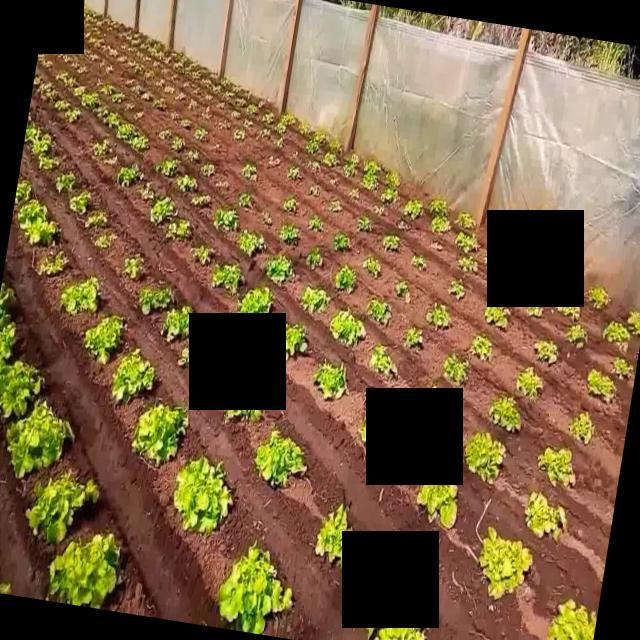Lettuce: (218, 542, 293, 634), (48, 532, 123, 610), (6, 401, 74, 479), (27, 474, 100, 542), (174, 456, 233, 533), (479, 525, 534, 600), (131, 403, 187, 466), (255, 431, 306, 487), (111, 348, 156, 406), (0, 361, 44, 417), (465, 432, 506, 486), (82, 314, 126, 364), (316, 505, 352, 562), (524, 490, 564, 540), (551, 598, 597, 640), (416, 486, 458, 530), (536, 446, 576, 488), (59, 276, 101, 315), (315, 362, 350, 400), (331, 310, 367, 346), (162, 305, 195, 344), (20, 218, 61, 246), (491, 395, 522, 431), (33, 248, 70, 278), (587, 369, 616, 405), (236, 287, 273, 315), (370, 344, 399, 379), (213, 264, 246, 294), (569, 411, 596, 447), (366, 625, 427, 640), (139, 288, 174, 314), (444, 352, 470, 386), (148, 197, 178, 226), (517, 367, 544, 399), (238, 230, 268, 258), (266, 255, 294, 285), (298, 286, 330, 312), (285, 323, 307, 360), (0, 308, 16, 357), (426, 302, 452, 328), (213, 208, 240, 233), (334, 264, 358, 292), (18, 200, 48, 222), (367, 300, 392, 326), (469, 336, 493, 362), (533, 340, 559, 364), (604, 320, 631, 343), (484, 307, 511, 330), (164, 220, 194, 240), (190, 245, 218, 266), (120, 256, 146, 278), (588, 286, 612, 309), (116, 166, 140, 188), (70, 190, 92, 214), (14, 178, 34, 204), (455, 232, 479, 253), (613, 356, 635, 378), (279, 223, 301, 244), (32, 132, 52, 154), (55, 172, 77, 192), (426, 198, 449, 217), (447, 280, 467, 301), (455, 211, 477, 230), (363, 257, 382, 279), (116, 122, 136, 142), (382, 169, 402, 189), (333, 231, 352, 252), (158, 158, 180, 176), (430, 215, 452, 233), (405, 327, 424, 347), (306, 249, 324, 270), (85, 212, 108, 228), (403, 200, 422, 219), (568, 324, 587, 343), (458, 256, 478, 274), (177, 175, 198, 192), (39, 154, 61, 170), (627, 310, 640, 337), (93, 234, 118, 248), (557, 307, 582, 321), (130, 135, 149, 153), (363, 158, 382, 176), (80, 93, 100, 109), (139, 182, 156, 200), (308, 214, 324, 233), (24, 124, 40, 143), (361, 174, 378, 191), (380, 187, 397, 204), (382, 235, 400, 251), (190, 193, 212, 206), (411, 255, 428, 271), (282, 197, 298, 214), (103, 112, 121, 127), (322, 152, 340, 167), (239, 192, 254, 209), (242, 165, 258, 180), (93, 140, 110, 154), (171, 137, 186, 152), (357, 216, 372, 231), (66, 109, 82, 123), (526, 306, 544, 318), (328, 140, 342, 155), (346, 151, 360, 166), (343, 163, 357, 178), (327, 199, 342, 213), (312, 129, 325, 145), (158, 128, 172, 142), (201, 163, 215, 177), (288, 166, 302, 180), (261, 211, 275, 225), (201, 107, 214, 122), (306, 139, 319, 154), (54, 99, 70, 111), (396, 281, 408, 297), (194, 128, 208, 141), (233, 128, 246, 142), (186, 150, 201, 162), (281, 114, 296, 126), (308, 159, 321, 172), (38, 82, 52, 94), (72, 85, 86, 97), (112, 92, 126, 104), (263, 111, 275, 125), (218, 118, 232, 130), (222, 90, 236, 102), (207, 72, 221, 84), (298, 120, 310, 134), (267, 156, 281, 168), (39, 58, 54, 69), (100, 85, 116, 95), (96, 105, 108, 118), (275, 122, 287, 135), (258, 98, 271, 110), (349, 187, 361, 200), (66, 77, 80, 88), (237, 89, 252, 99), (57, 71, 69, 83), (248, 104, 260, 116), (188, 98, 200, 110), (234, 96, 246, 108), (221, 78, 233, 90), (189, 71, 201, 83), (33, 73, 44, 86), (152, 99, 166, 109), (260, 128, 272, 139), (234, 128, 245, 140), (200, 78, 211, 90), (173, 62, 185, 73), (309, 185, 320, 197), (180, 118, 193, 128), (186, 60, 198, 70), (138, 43, 150, 53), (125, 78, 136, 88), (211, 85, 222, 95), (198, 67, 209, 77), (162, 56, 173, 66), (130, 38, 142, 47), (131, 86, 144, 94), (125, 102, 135, 112), (146, 48, 156, 58), (133, 111, 144, 120), (175, 92, 186, 101), (142, 92, 154, 100), (275, 139, 284, 149), (244, 119, 254, 128), (232, 111, 242, 120), (165, 85, 174, 95), (154, 51, 164, 60), (170, 112, 180, 120), (154, 41, 162, 50)
